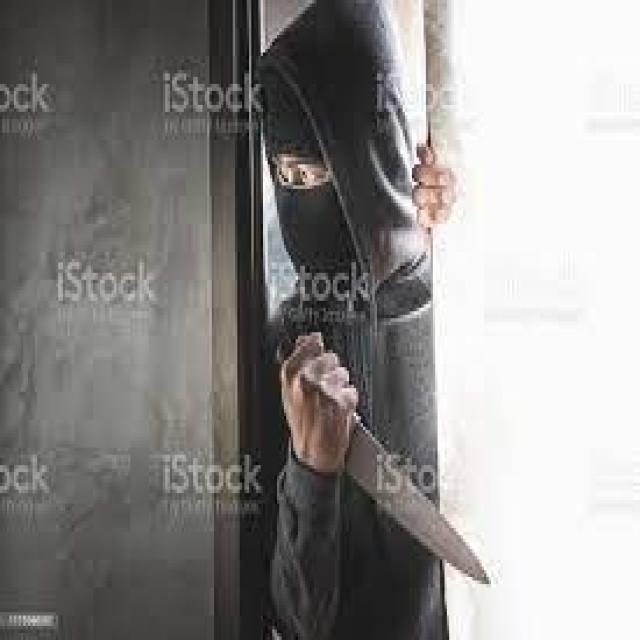faca: (272, 318, 496, 595)
